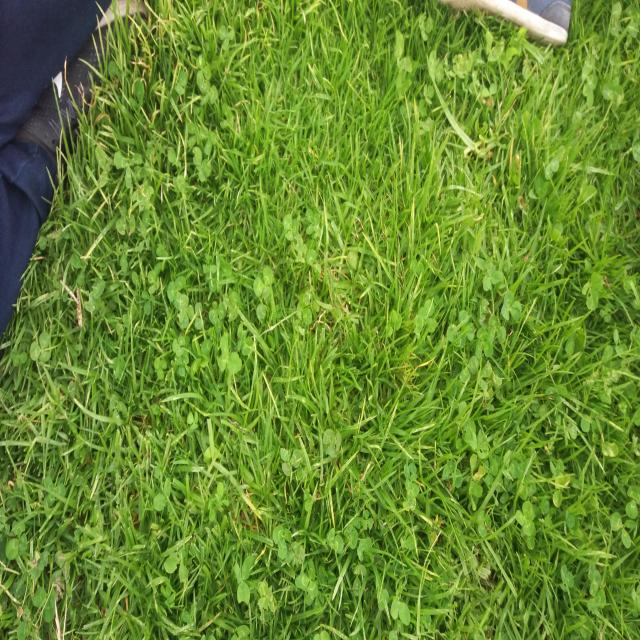Four Leaf Clover: (178, 295, 194, 329), (237, 323, 254, 355), (285, 542, 305, 568)
